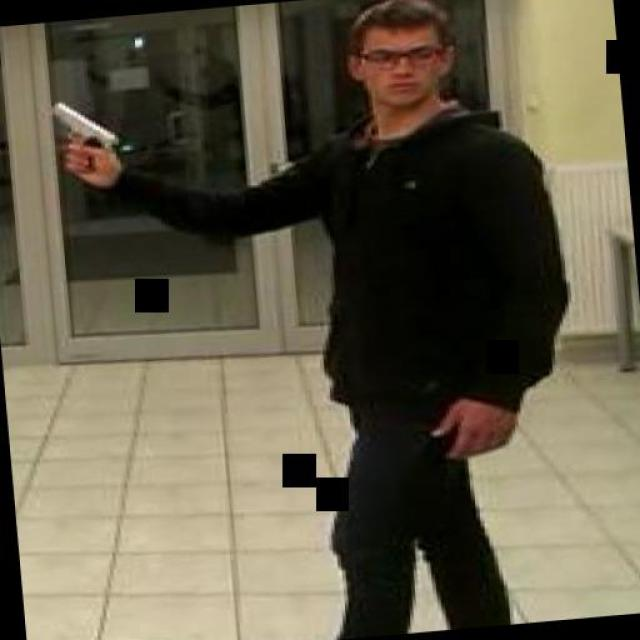gun: (40, 91, 129, 181)
